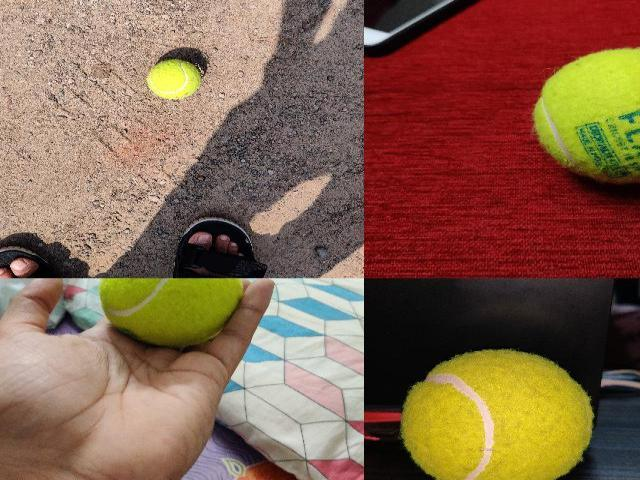tennis-ball: (400, 347, 593, 479), (532, 46, 639, 184), (100, 278, 242, 345), (146, 59, 200, 99)
